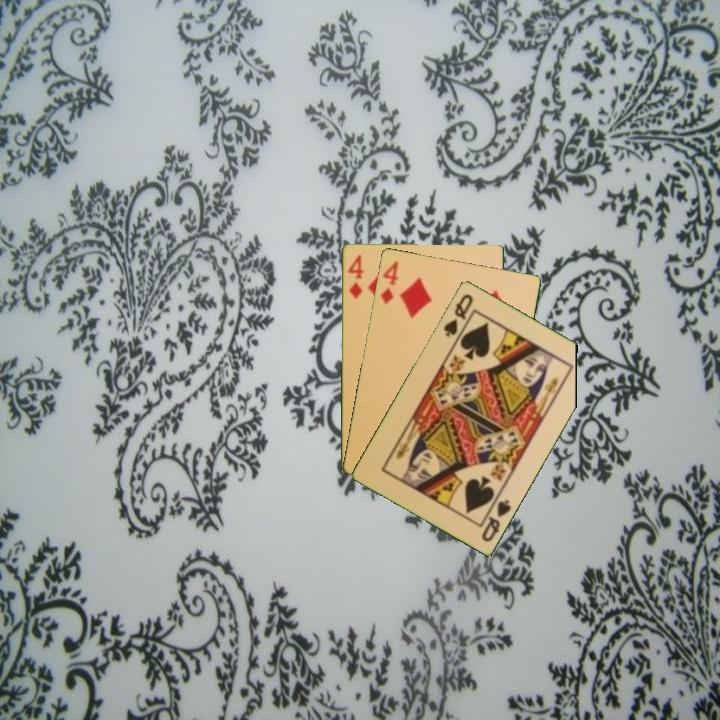4d: (377, 257, 401, 306), (344, 251, 366, 302)
Qs: (477, 491, 514, 545), (440, 290, 476, 340)
